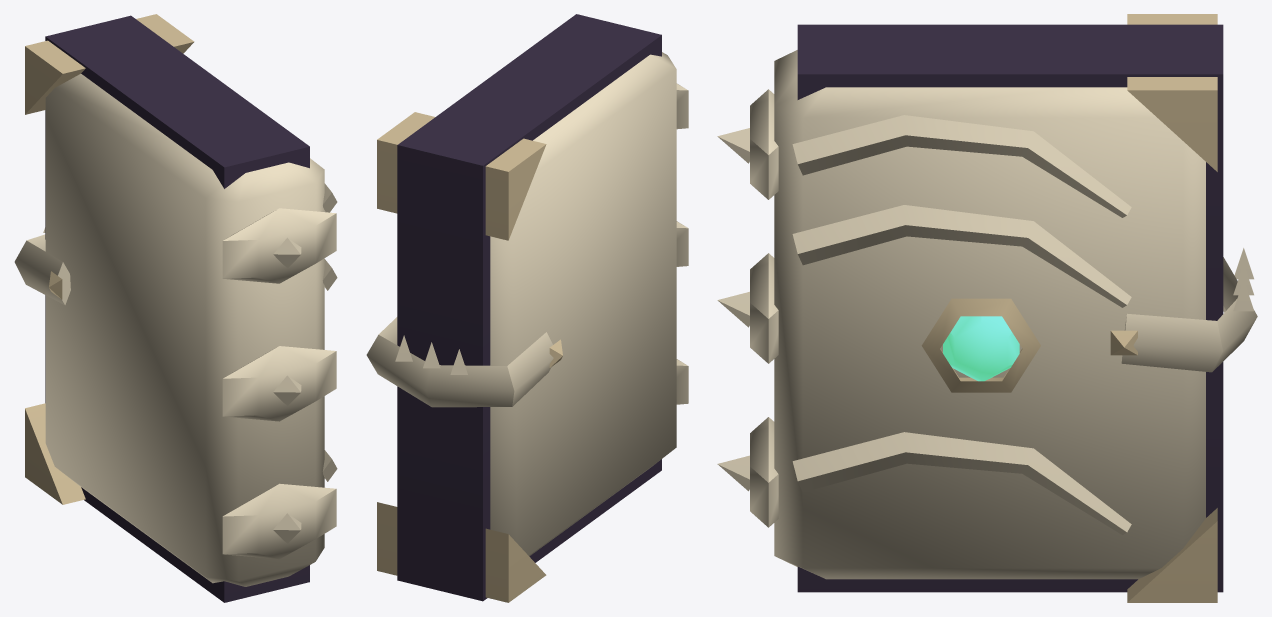
The model's file is bone-tome-1.glb.
3 renders of one model, left to right at view 1: azimuth 30°, elevation 25°; view 2: azimuth 150°, elevation 25°; view 3: azimuth 270°, elevation 25°, orthographic. The views are drawn at different scales.
Parts seen in each view (by area): view 1: bone-tome-1; view 2: bone-tome-1; view 3: bone-tome-1.
Boxes of the visible parts, x1,y1,x2,y2 form: bone-tome-1: (14,14,337,602); bone-tome-1: (366,14,688,602); bone-tome-1: (717,14,1257,602).
Size of the model in its own units: 0.0764 by 0.196 by 0.1854.
